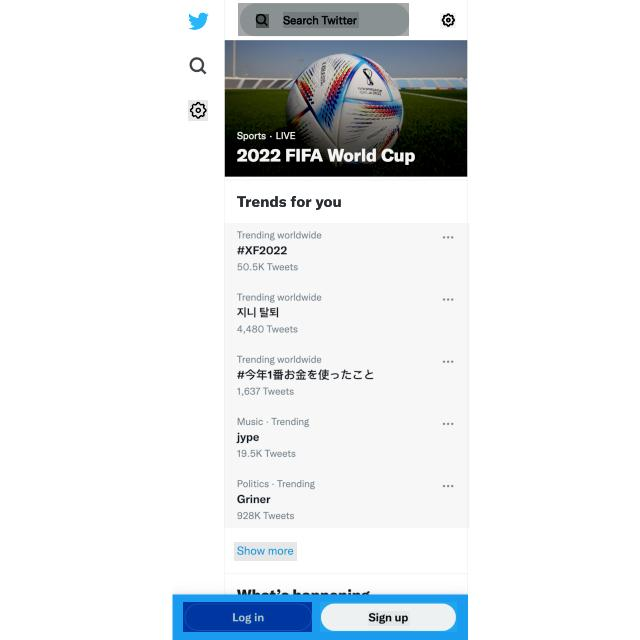CheckBox: (320, 602, 457, 632), (183, 602, 312, 632), (234, 542, 297, 561)
CheckedTextView: (238, 3, 409, 36)
QR code: (224, 223, 470, 528)
bag: (223, 1, 467, 40)
breadcrumbs: (234, 192, 344, 214)
carousel: (186, 9, 211, 33), (188, 54, 208, 78), (188, 100, 208, 121), (440, 13, 456, 28), (256, 14, 269, 28)
copy: (224, 40, 468, 177)
data feed: (368, 611, 410, 626), (230, 612, 266, 624)
footer: (283, 12, 359, 28)
